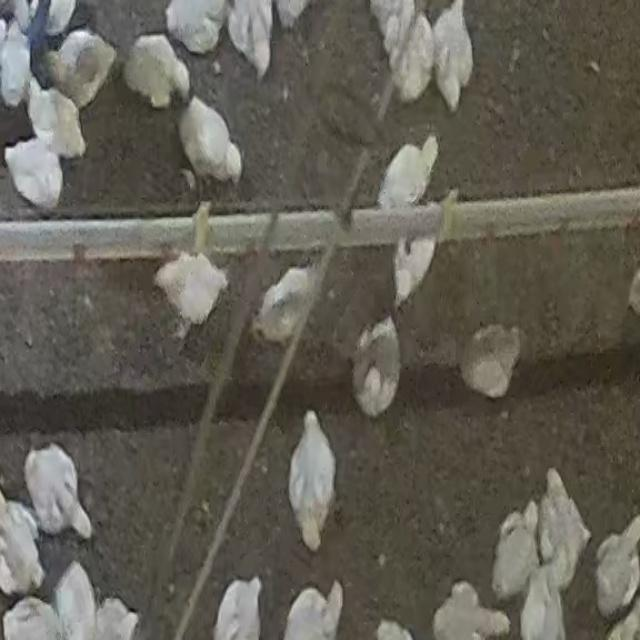chicken: (24, 442, 95, 542), (288, 411, 337, 552), (536, 468, 592, 589), (178, 95, 245, 186), (47, 29, 118, 110), (252, 264, 320, 346), (155, 252, 226, 329), (351, 316, 402, 420), (123, 35, 191, 110), (593, 512, 640, 620), (0, 488, 46, 596), (386, 6, 436, 105), (26, 81, 86, 163), (460, 323, 522, 400), (431, 0, 474, 111), (491, 505, 540, 602), (4, 134, 66, 210), (376, 136, 438, 210), (434, 582, 509, 640), (226, 1, 275, 81), (282, 581, 343, 639), (164, 1, 228, 56), (394, 236, 438, 309), (214, 577, 264, 640), (56, 563, 96, 640), (0, 20, 33, 110)
